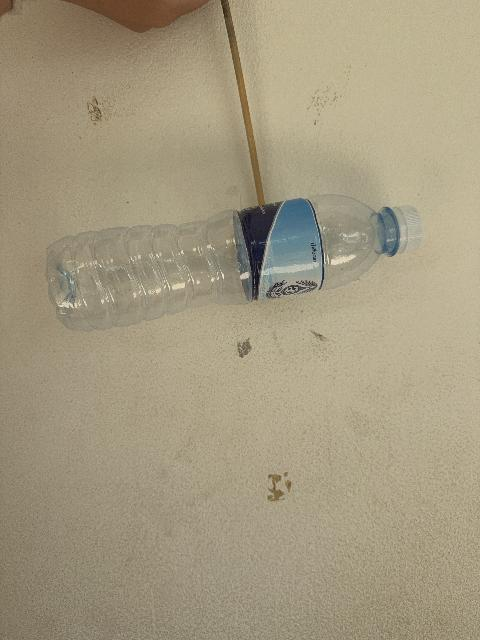bottle: (47, 196, 422, 330)
